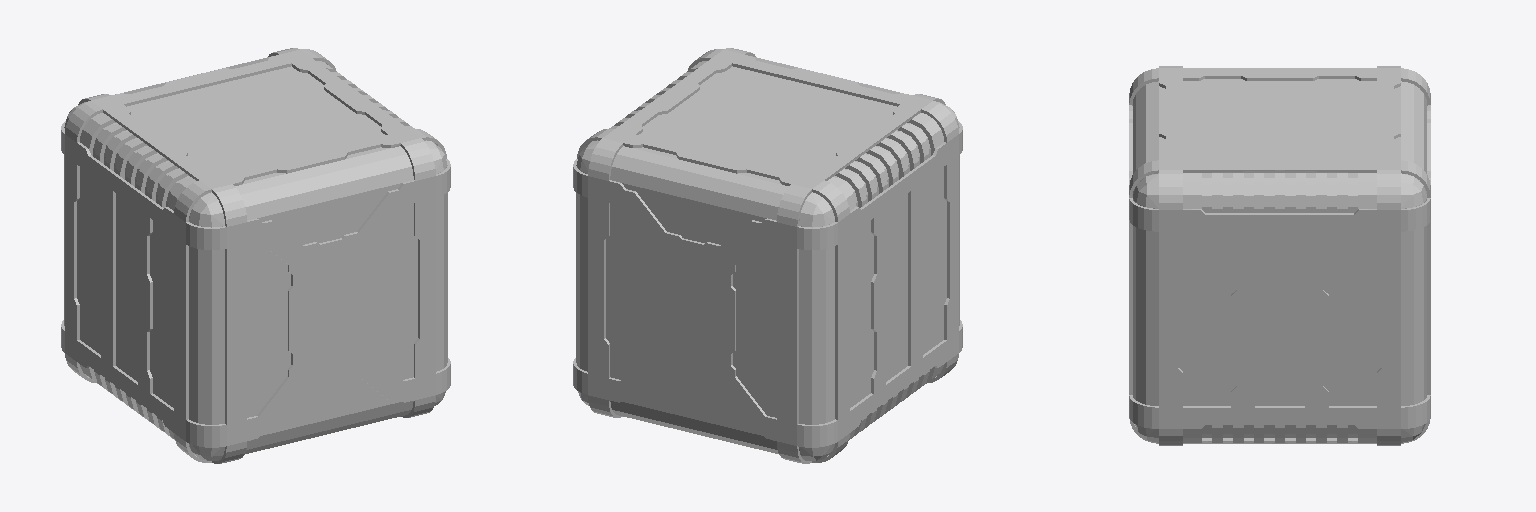
Rendered from Sci-fi_Container_Game.obj.
3 renders of one model, left to right at view 1: azimuth 30°, elevation 25°; view 2: azimuth 150°, elevation 25°; view 3: azimuth 270°, elevation 25°, orthographic.
Visible parts, largest first — view 1: Sci-fi_Container_Game_Меш; view 2: Sci-fi_Container_Game_Меш; view 3: Sci-fi_Container_Game_Меш.
Boxes of the visible parts, box(x1,y1,x2,y2) form: Sci-fi_Container_Game_Меш: box(61, 48, 450, 463); Sci-fi_Container_Game_Меш: box(573, 48, 962, 463); Sci-fi_Container_Game_Меш: box(1129, 66, 1430, 445).
Size of the model in its own units: 2.89 by 2.89 by 2.89.